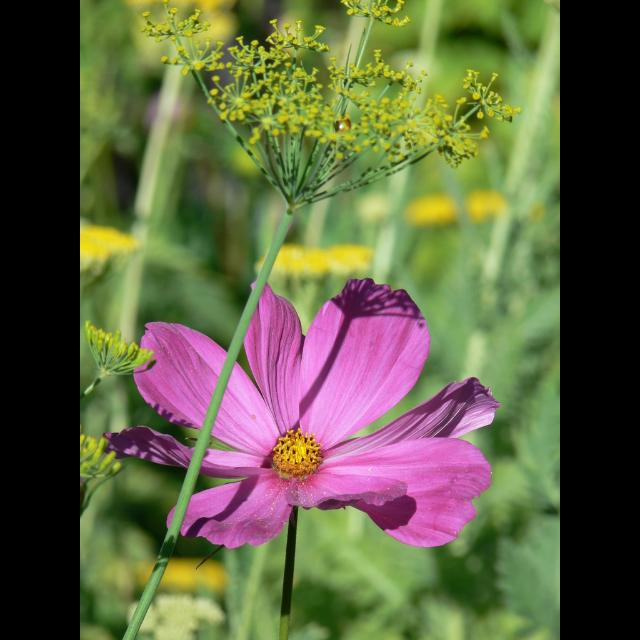Flower: (117, 278, 500, 566)
